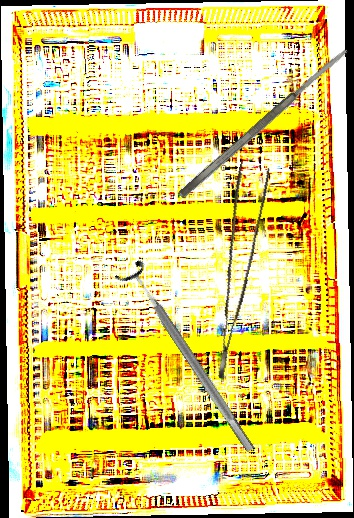Fixation Ring: (113, 258, 265, 460)
Spatula Surgical: (176, 45, 352, 201)
Tissue Forceps: (182, 160, 282, 379)
